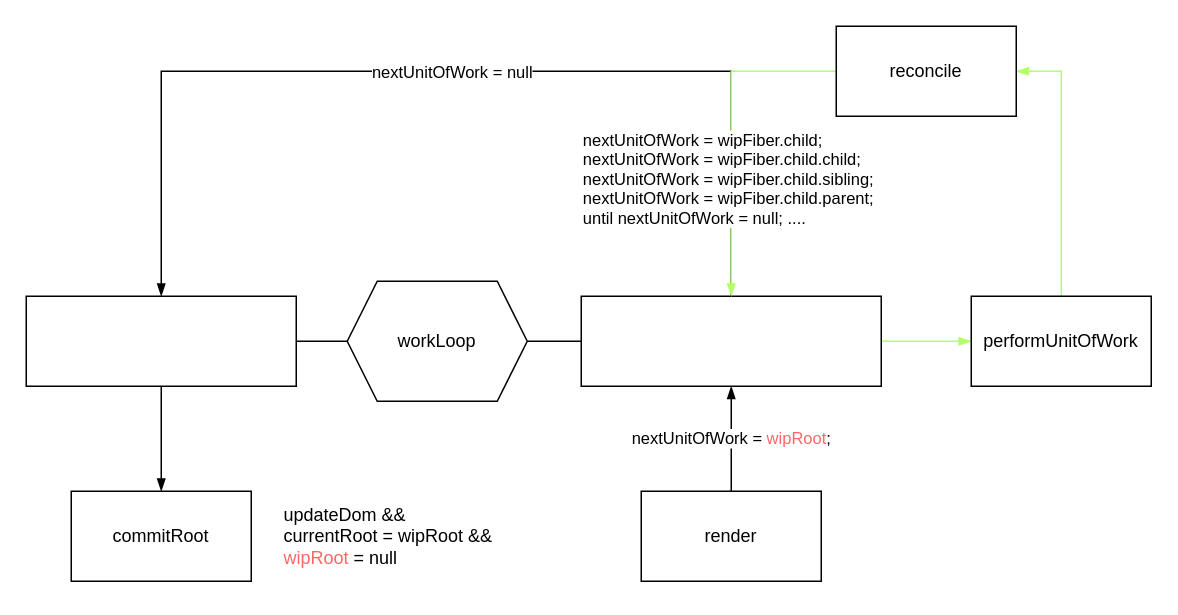
This 1178x615 diagram has some shape labels left out. Each missing label, with the centre of its shape:
"!nextUnitOfWork && wipRoot" belongs at (x=160, y=340).
"nextUnitOfWork && !shouldYield" belongs at (x=730, y=340).
